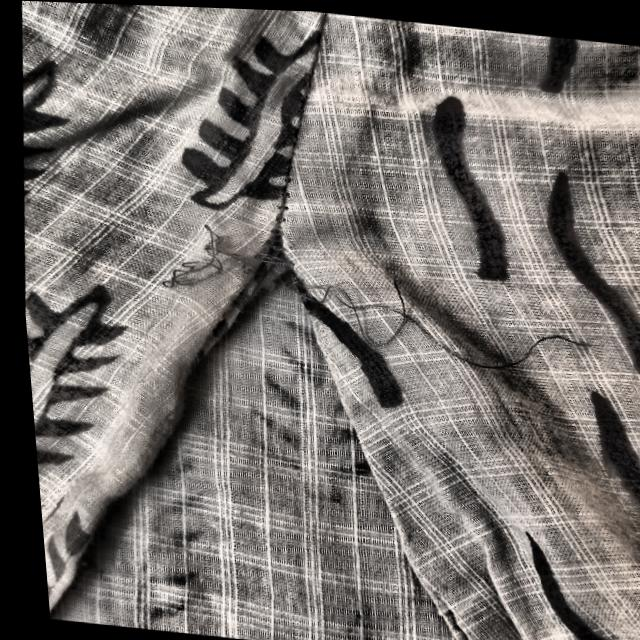Stitch: (137, 198, 623, 391)
